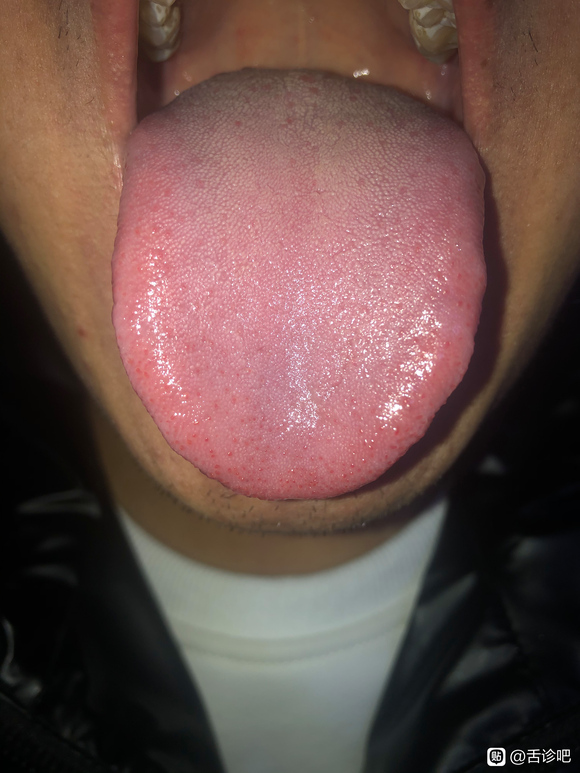baitaishe: (112, 68, 487, 501)
hongdianshe: (203, 435, 210, 443)
hongshe: (112, 68, 487, 501)
